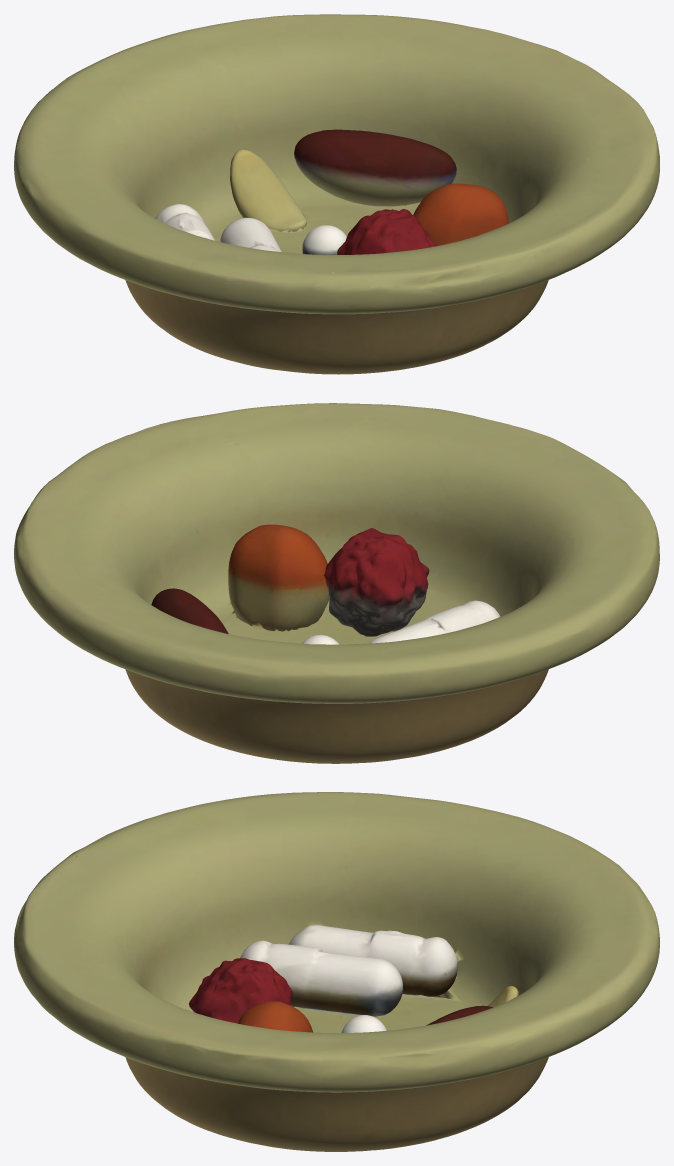
File: supp-plate.glb
The picture shows the model from 3 angles, top to bottom: view 1: azimuth 30°, elevation 25°; view 2: azimuth 150°, elevation 25°; view 3: azimuth 270°, elevation 25°; orthographic projection.
Parts seen in each view (by area): view 1: tripo_node_730e1b0d-3b2d-46e7-a2fd-c4e9d8cea649; view 2: tripo_node_730e1b0d-3b2d-46e7-a2fd-c4e9d8cea649; view 3: tripo_node_730e1b0d-3b2d-46e7-a2fd-c4e9d8cea649.
Boxes of the visible parts, <box> form: tripo_node_730e1b0d-3b2d-46e7-a2fd-c4e9d8cea649: <box>14,14,659,374</box>; tripo_node_730e1b0d-3b2d-46e7-a2fd-c4e9d8cea649: <box>14,403,659,763</box>; tripo_node_730e1b0d-3b2d-46e7-a2fd-c4e9d8cea649: <box>14,792,659,1151</box>.
Bounding box in the file's own units: 0.9791 × 0.2626 × 0.9784.
Materials: 1 (1 with a texture image).
